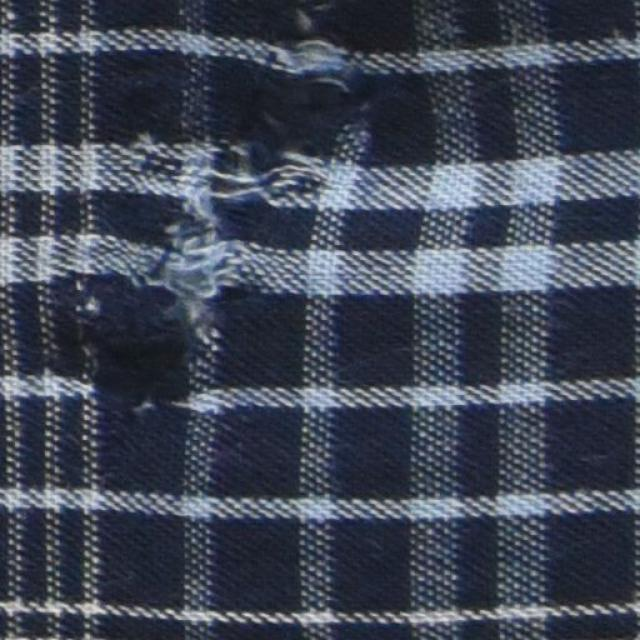Snag: (147, 10, 358, 295), (82, 270, 213, 450)
